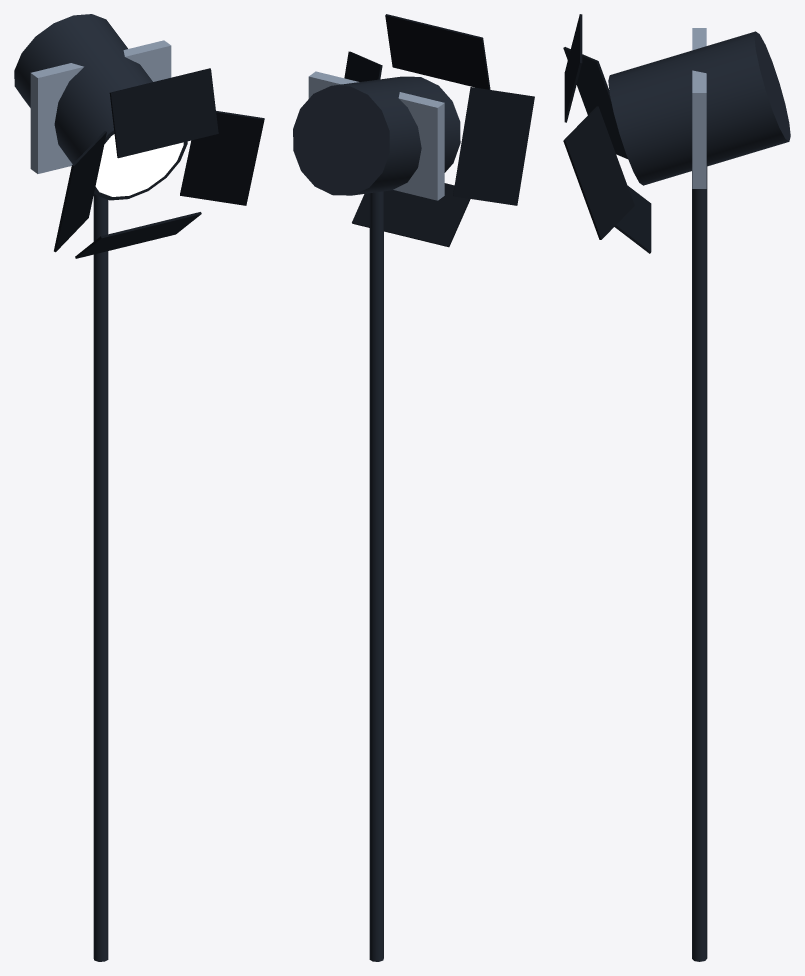
File: fresnel_spotlight.glb
The picture shows the model from 3 angles, left to right: view 1: azimuth 30°, elevation 25°; view 2: azimuth 150°, elevation 25°; view 3: azimuth 270°, elevation 25°; orthographic projection. The views are drawn at different scales.
Parts seen in each view (by area): view 1: Spotlight; view 2: Spotlight; view 3: Spotlight.
Boxes of the visible parts, x1,y1,x2,y2 form: Spotlight: (14, 14, 264, 961); Spotlight: (293, 14, 534, 961); Spotlight: (563, 14, 790, 961).
Size of the model in its own units: 0.462 by 2.11 by 0.473.
